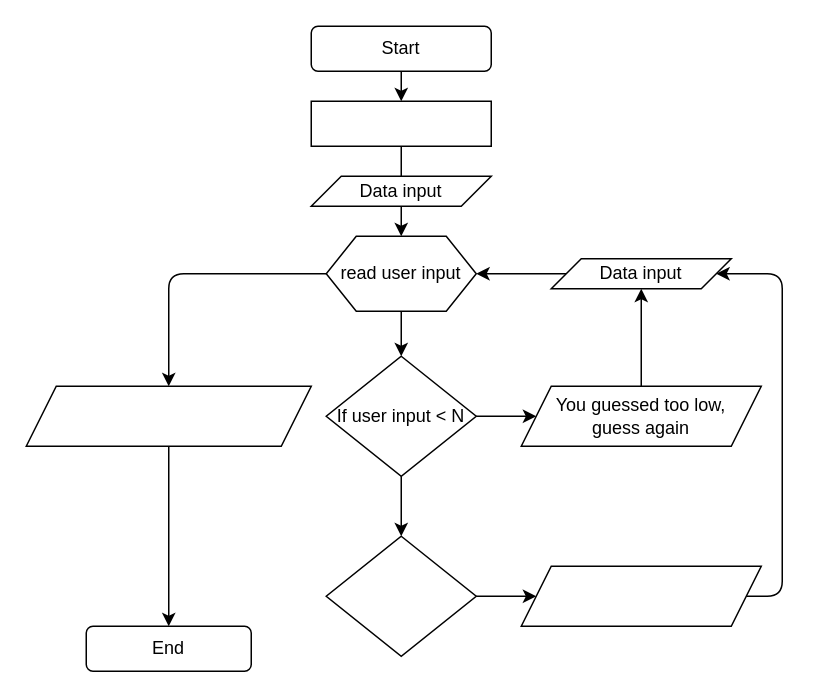
Some shapes in this 821 by 698 pixel diagram are drawn without their labels. The shapes that lost their labels are listed below. From the top down, each one's centre as x and y in pixels, then its label:
At point 400,123: "create random int in N".
At point 168,415: "You are correct, the random number is N".
At point 400,595: "If user input > N".
At point 640,595: "You guessed too high, guess again".
